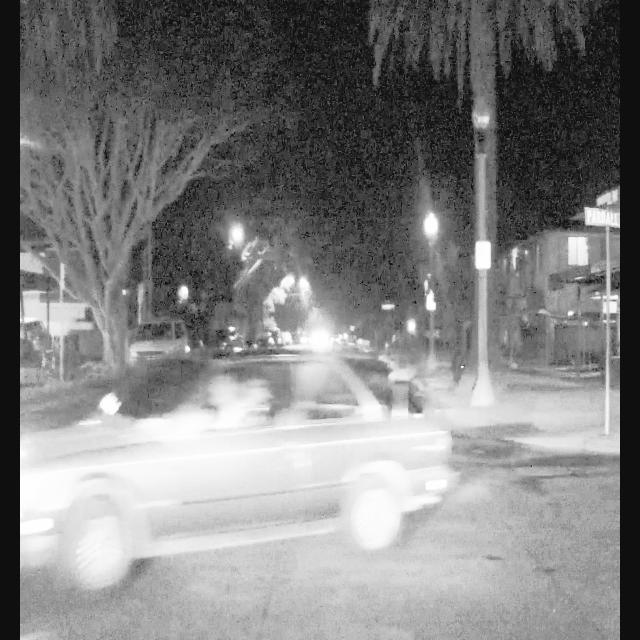Sign: (584, 186, 618, 226), (476, 242, 491, 269)
